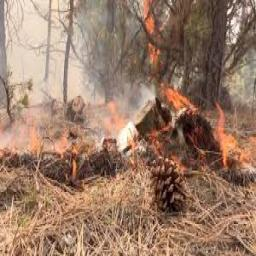Low smoke: (0, 0, 170, 165)
Small fire: (0, 74, 255, 203)
